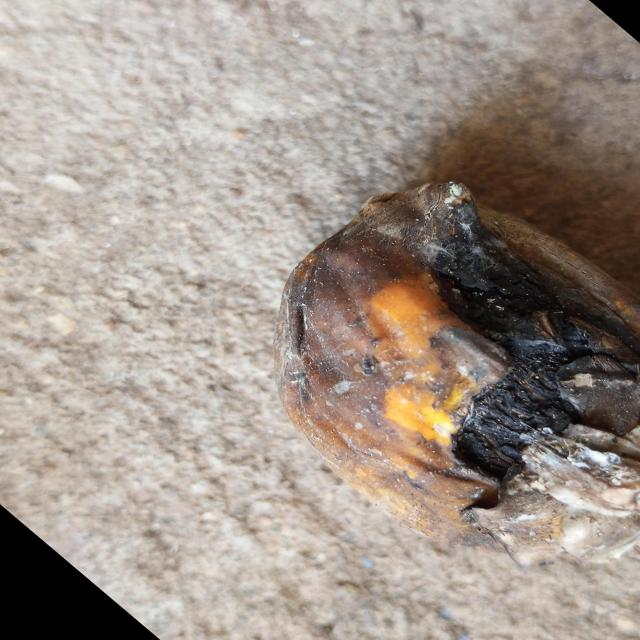damaged: (277, 182, 640, 568)
